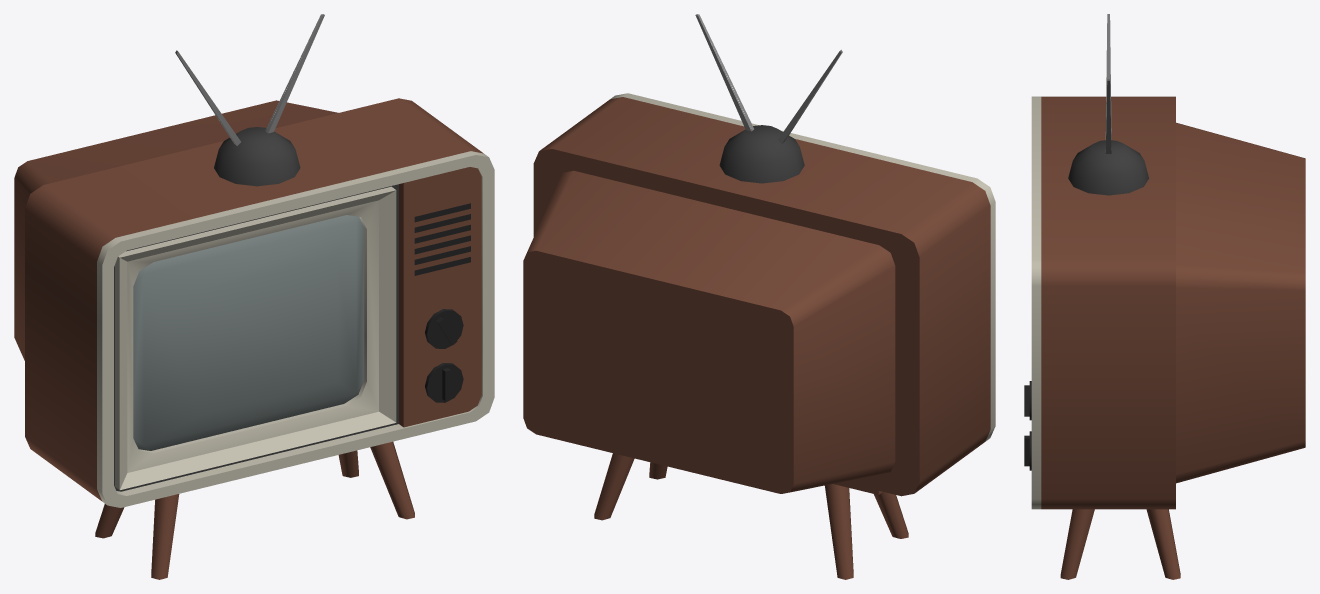
Rendered from Televison_01.fbx.
The picture shows the model from 3 angles, left to right: view 1: azimuth 30°, elevation 25°; view 2: azimuth 150°, elevation 25°; view 3: azimuth 270°, elevation 25°; orthographic projection. The views are drawn at different scales.
Visible parts, largest first — view 1: Televison_01; view 2: Televison_01; view 3: Televison_01.
Boxes of the visible parts, x1,y1,x2,y2 form: Televison_01: [14, 14, 494, 579]; Televison_01: [523, 14, 995, 579]; Televison_01: [1024, 14, 1305, 579].
Size of the model in its own units: 0.7894 by 0.9617 by 0.5244.
